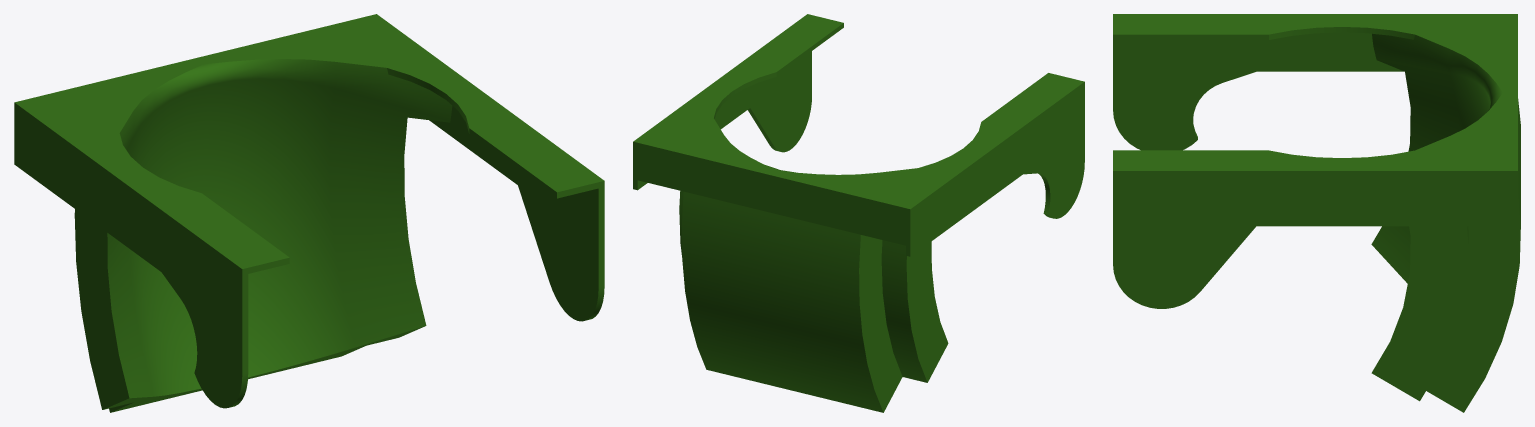
3 views of the same model, side by side, from view 1: azimuth 30°, elevation 25°; view 2: azimuth 150°, elevation 25°; view 3: azimuth 270°, elevation 25° (orthographic). The views are drawn at different scales.
Visible parts, largest first — view 1: BLOCK CAD: Launcher Hood; view 2: BLOCK CAD: Launcher Hood; view 3: BLOCK CAD: Launcher Hood.
Boxes of the visible parts, left/top/right/bottom form: BLOCK CAD: Launcher Hood: left=14, top=14, right=604, bottom=412; BLOCK CAD: Launcher Hood: left=633, top=14, right=1084, bottom=412; BLOCK CAD: Launcher Hood: left=1113, top=14, right=1520, bottom=412.
Size of the model in its own units: 0.1937 by 0.1554 by 0.2126.
